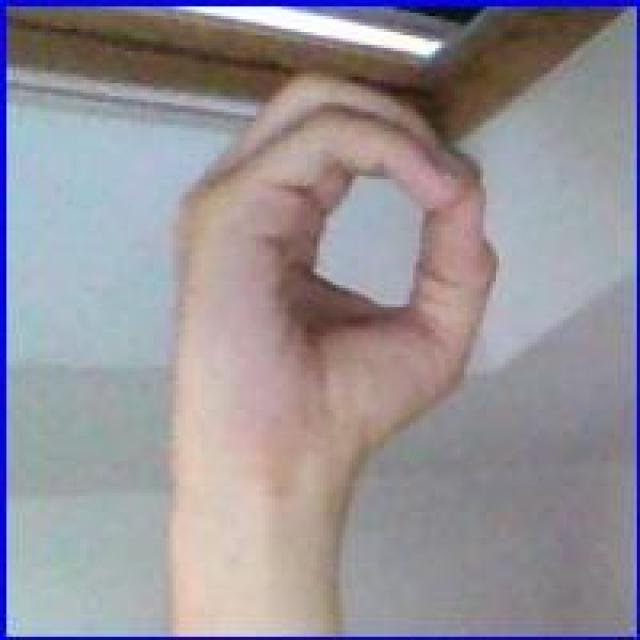O: (157, 67, 518, 458)
